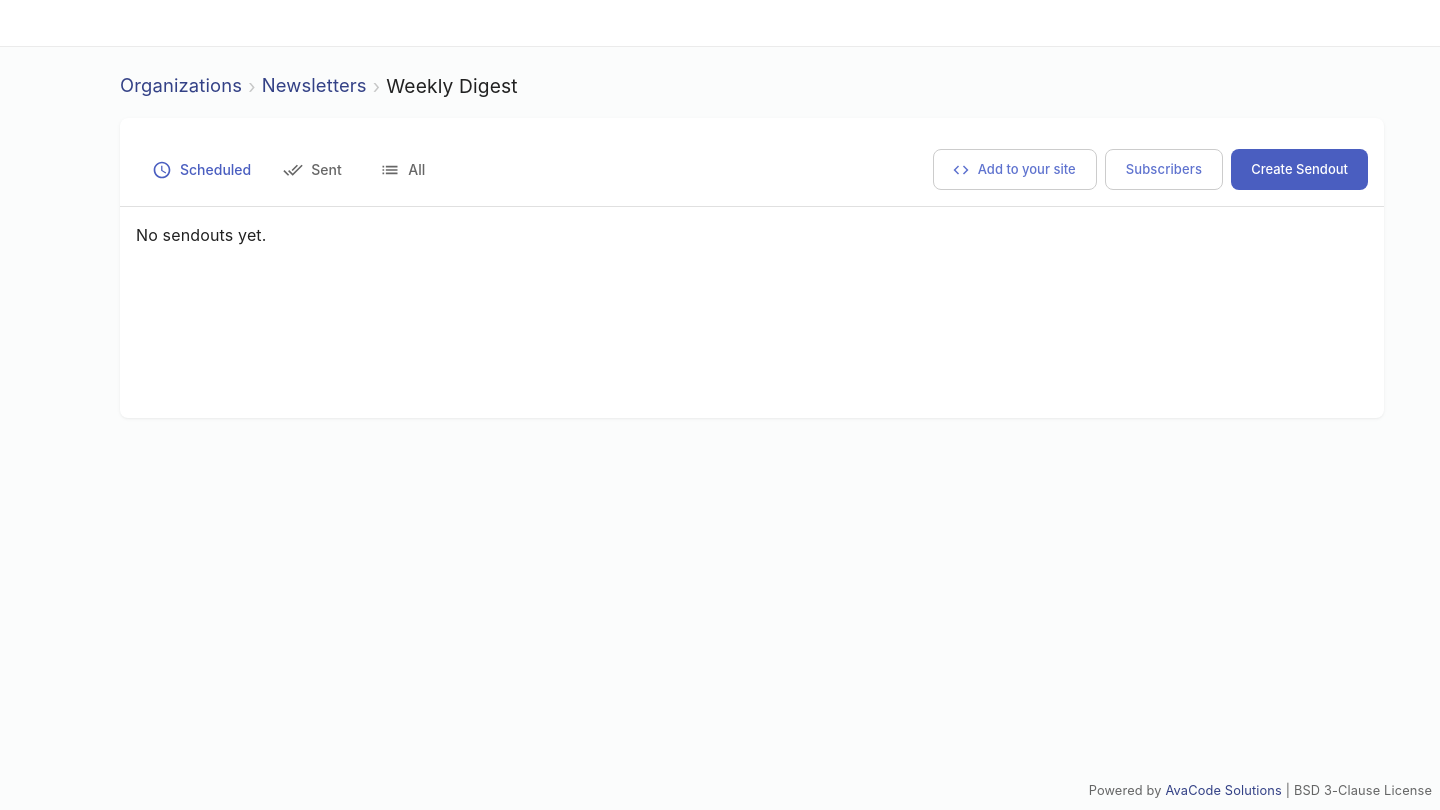
Scenario: Newsletter › "Add to your site" embed button › closes the dialog when Close is clicked
The image size is (1440, 810).
Click the button "Add to your site".
click(1015, 170)  # box [933, 149, 1097, 190]
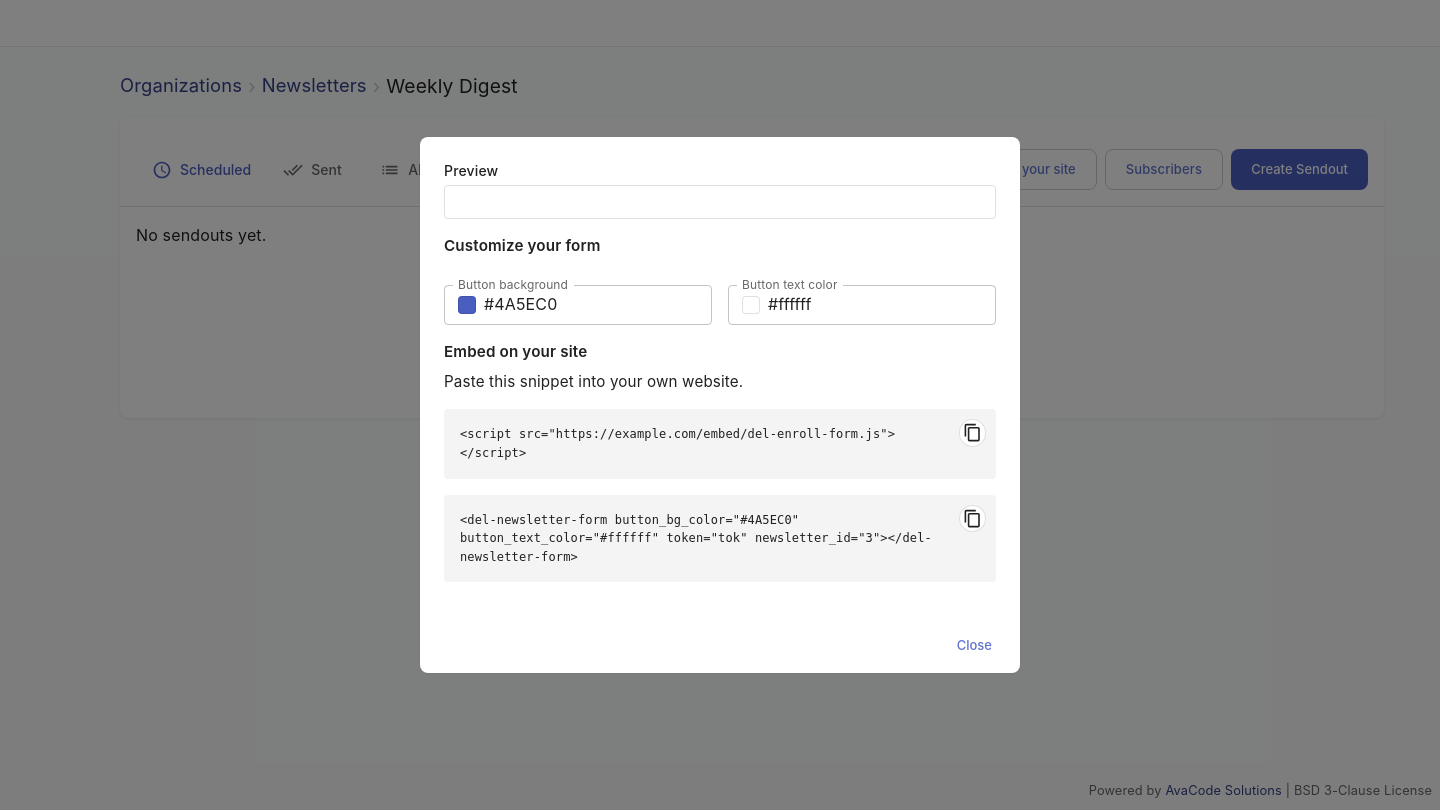
Expected: the text "<del-newsletter-form button_bg_color=\"#4A5EC0\" button_text_color=\"#ffffff\" token=\"tok\" newsletter_id=\"3\"></del-newslette" is shown, [460, 512, 932, 564]
Click the button "Close".
click(974, 646)  # box [937, 626, 1012, 665]
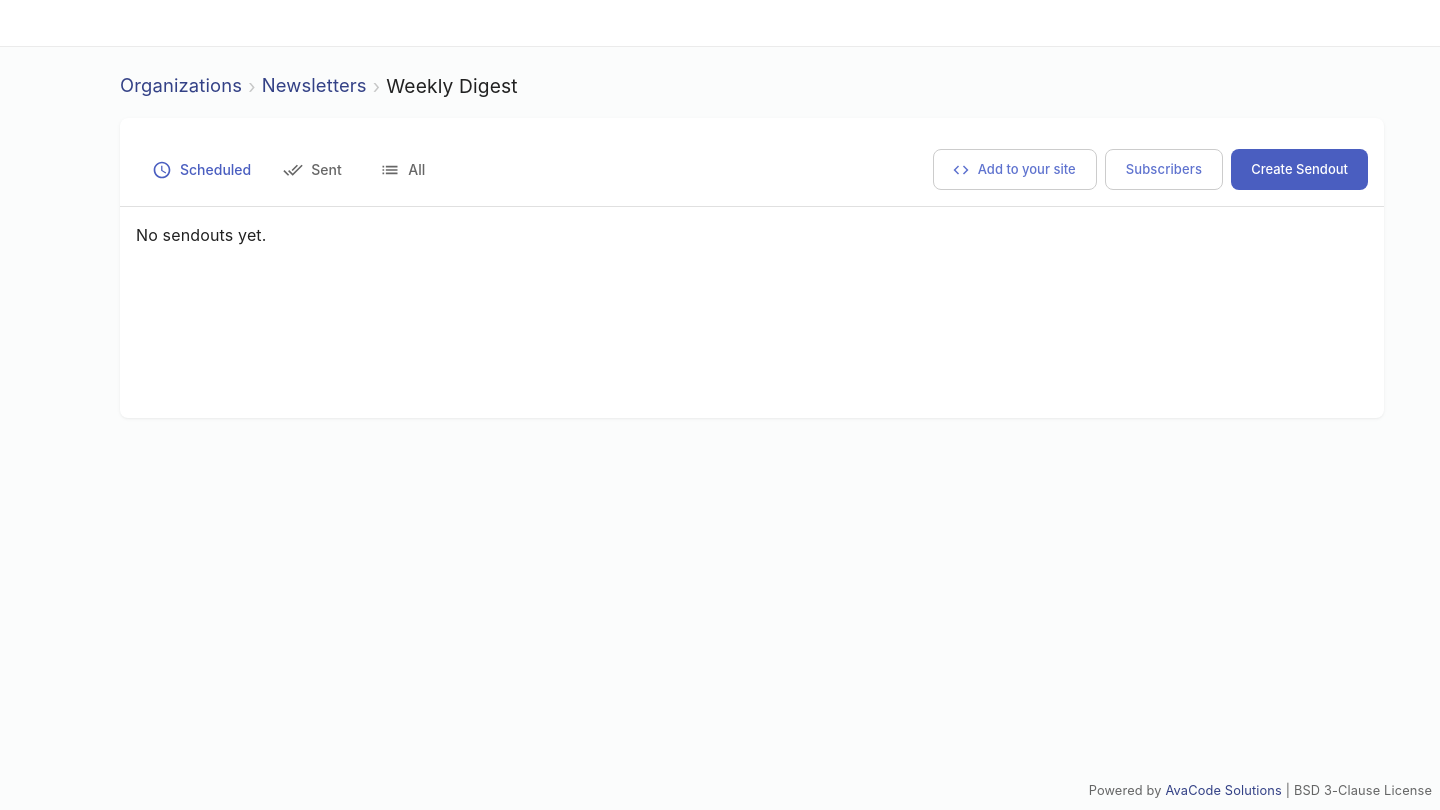
Expected: the dialog is gone
